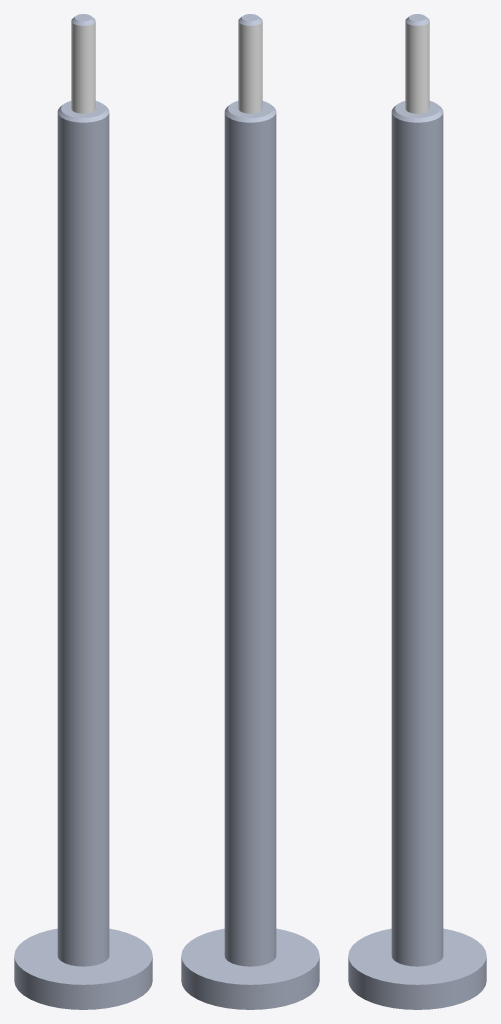
The model's file is Slider_Shaft.glb.
3 views of the same model, side by side, from view 1: azimuth 30°, elevation 25°; view 2: azimuth 150°, elevation 25°; view 3: azimuth 330°, elevation 25° (orthographic).
Visible parts, largest first — view 1: Slider Shaft; view 2: Slider Shaft; view 3: Slider Shaft.
Boxes of the visible parts, x1,y1,x2,y2 form: Slider Shaft: [14, 14, 152, 1009]; Slider Shaft: [181, 14, 319, 1009]; Slider Shaft: [348, 14, 486, 1009].
Bounding box in the file's own units: 0.04 × 0.307 × 0.04.
